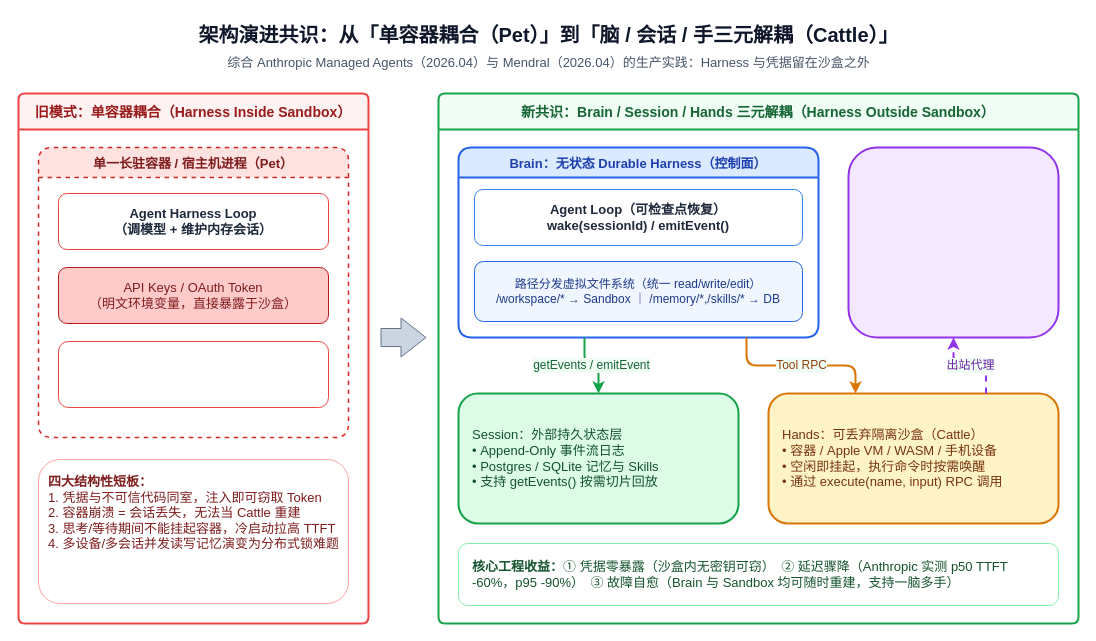
Some shapes in this 1096 by 641 pixel diagram are drawn without their labels. The centre of each missing label's shape, as x and y in pixels:
"Credential Vault & Proxy （OneCLI / 外部密钥库） 按 Host/Path 注入 Token 沙盒永不见明文密钥" goes at (x=953, y=242).
"本地文件系统 + 不可信 Bash / 代码执行 （代码、Skills、MEMORY.md 混居）" goes at (x=193, y=374).
